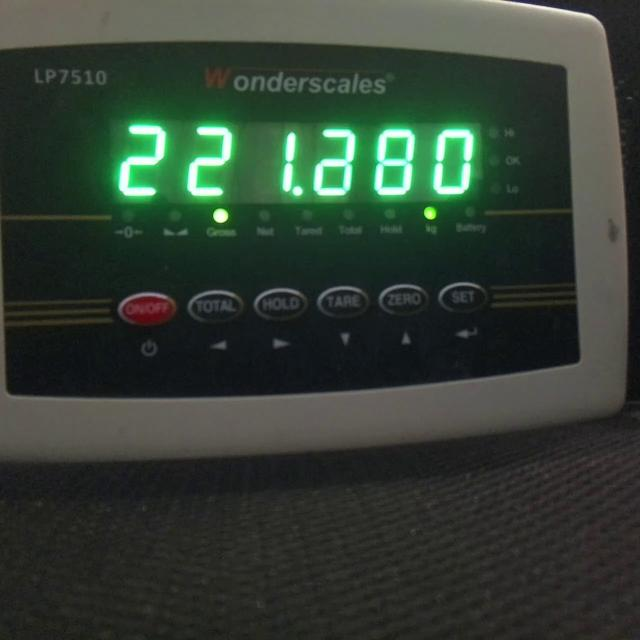.: (292, 186, 302, 196)
0: (434, 128, 474, 195)
1: (281, 131, 297, 194)
2: (118, 124, 165, 197), (188, 126, 234, 197), (311, 127, 355, 195)
8: (373, 128, 415, 195)
